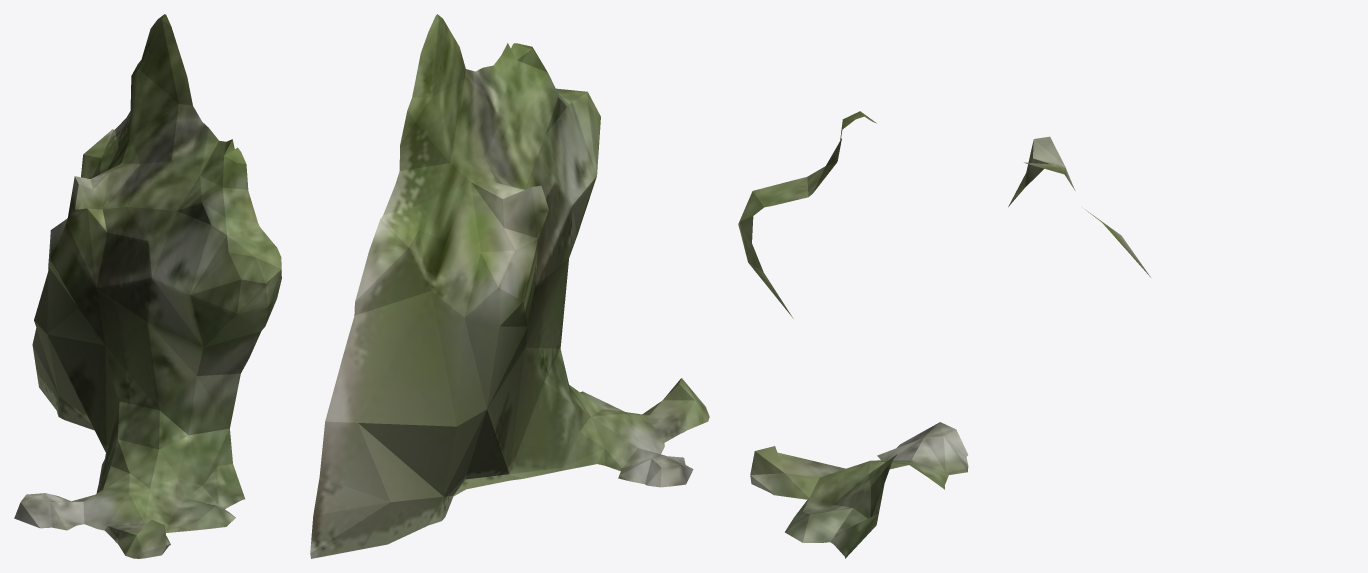
The picture shows the model from 3 angles, left to right: view 1: azimuth 30°, elevation 25°; view 2: azimuth 150°, elevation 25°; view 3: azimuth 270°, elevation 25°; orthographic projection. The views are drawn at different scales.
Size of the model in its own units: 1.27 by 2.67 by 2.74.
1 material, 1 textured.
